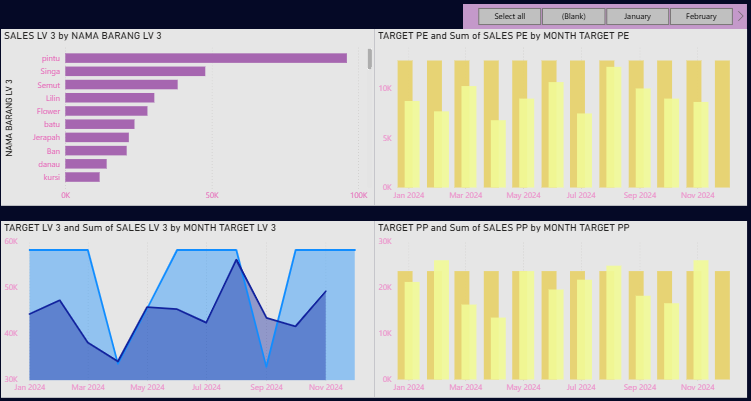

The page's visual inventory and layout, read from the dashboard file:
{"tool":"powerbi","page":{"name":"product lv 2 lv 3","canvas":[1280,720],"ordinal":2},"visuals":[{"type":"areaChart","title":"TARGET LV 3 and Sum of SALES LV 3 by MONTH TARGET LV 3","fields":{"Y":["Sum(target n sales lv 3 (2).TARGET LV 3)","Sum(target n sales lv 3 (2).SALES LV 3)"],"Category":["target n sales lv 3 (2).MONTH TARGET LV 3"]},"box":[11.8,398.1,628.2,297.3],"z":0},{"type":"clusteredColumnChart","title":"TARGET PE  and Sum of SALES PE by MONTH TARGET PE","fields":{"Category":["target n sales PE.MONTH TARGET PE"],"Y":["Sum(target n sales PE.TARGET PE )","Sum(target n sales PE.SALES PE)"]},"box":[640,75.6,624.9,297.3],"z":1000},{"type":"clusteredBarChart","title":"SALES LV 3 by NAMA BARANG LV 3","fields":{"Category":["target n sales lv 3 (2).NAMA BARANG LV 3"],"Y":["Sum(target n sales lv 3 (2).SALES LV 3)"]},"box":[11.8,75.6,628.2,297.3],"z":2000},{"type":"slicer","fields":{"Values":["CALENDER.Date.Variation.Date Hierarchy.Month"]},"box":[787.8,33.6,477.1,42],"z":3000},{"type":"clusteredColumnChart","title":"TARGET PP and Sum of SALES PP by MONTH TARGET PP","fields":{"Y":["Sum(target n sales PP.TARGET PP)","Sum(target n sales PP.SALES PP)"],"Category":["target n sales PP.MONTH TARGET PP"]},"box":[640,398.1,624.9,297.3],"z":4000}]}

Visuals, with their boxes in screenshot pixels (x1, y1, x2, y2):
"TARGET LV 3 and Sum of SALES LV 3 by MONTH TARGET LV 3" areaChart: box(3, 219, 374, 395)
"TARGET PE  and Sum of SALES PE by MONTH TARGET PE" clusteredColumnChart: box(374, 29, 743, 204)
"SALES LV 3 by NAMA BARANG LV 3" clusteredBarChart: box(3, 29, 374, 204)
slicer - CALENDER.Date.Variation.Date Hierarchy.Month: box(461, 4, 743, 29)
"TARGET PP and Sum of SALES PP by MONTH TARGET PP" clusteredColumnChart: box(374, 219, 743, 395)
